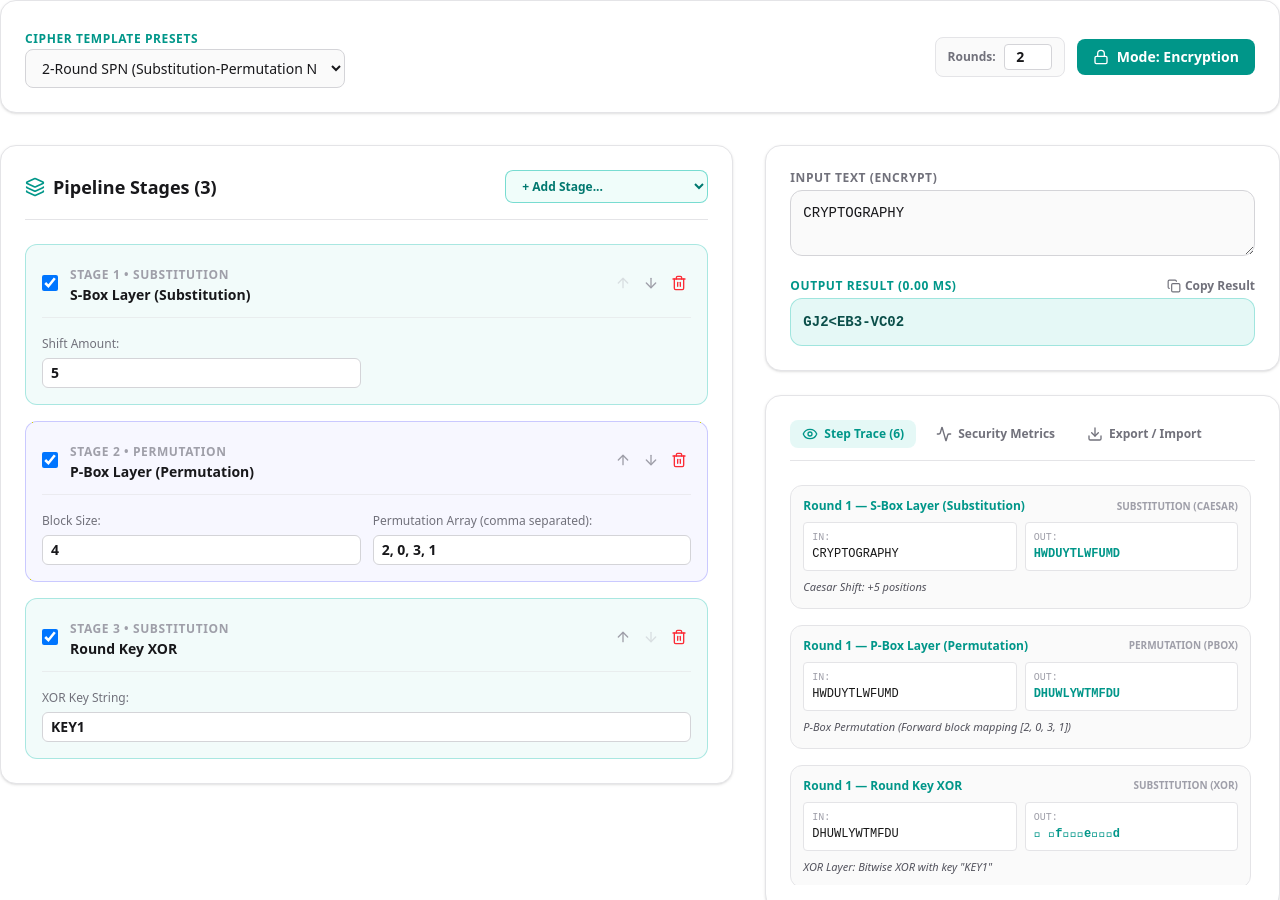
Test: CipherSandbox Component Unit Tests › toggles encryption and decryption mode
The width and height of the screenshot is (1280, 900).
Click the button "Mode: Encryption": click(1166, 56) [1077, 38, 1255, 74]
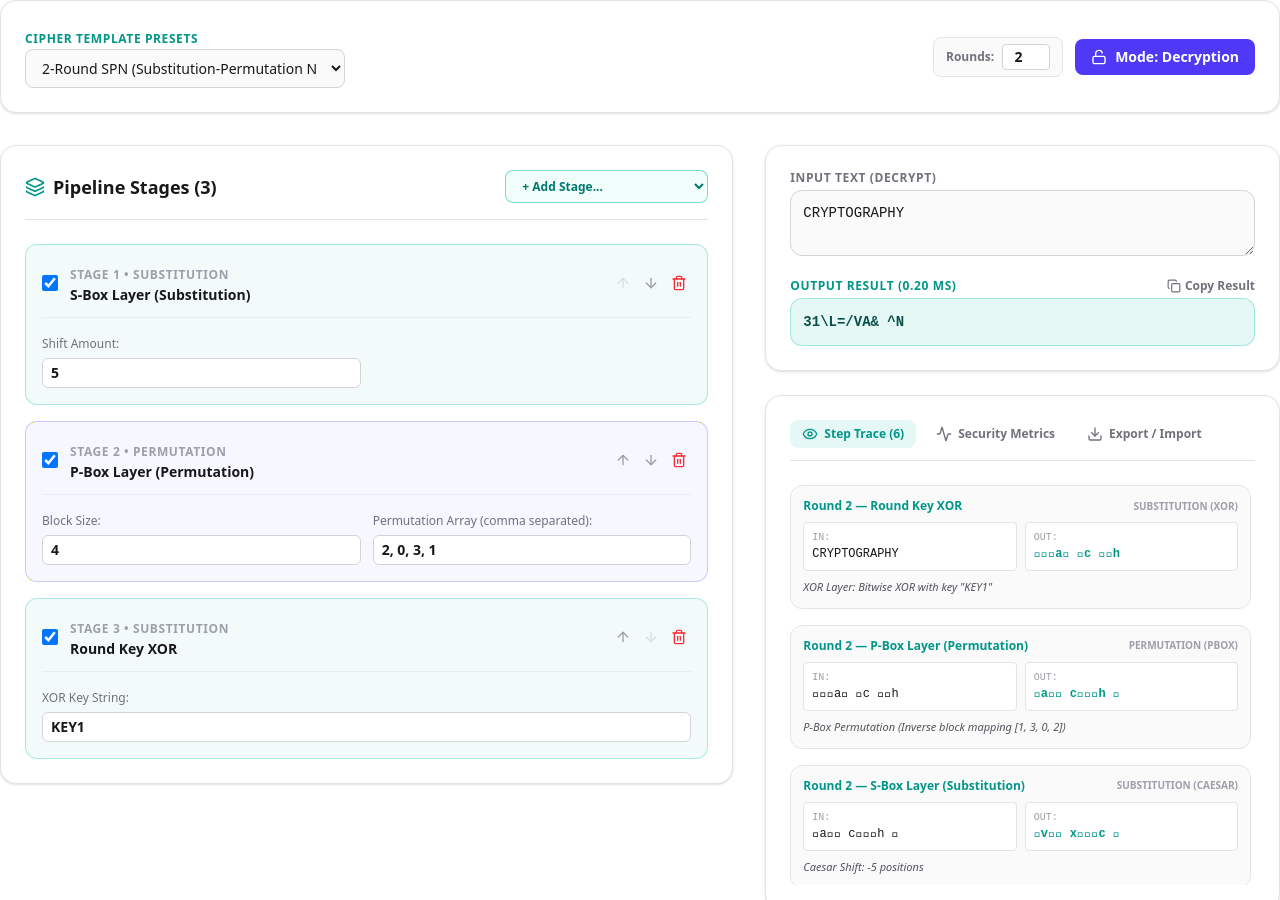
expect the button "Mode: Decryption" is shown: met, box [1075, 38, 1255, 74]
